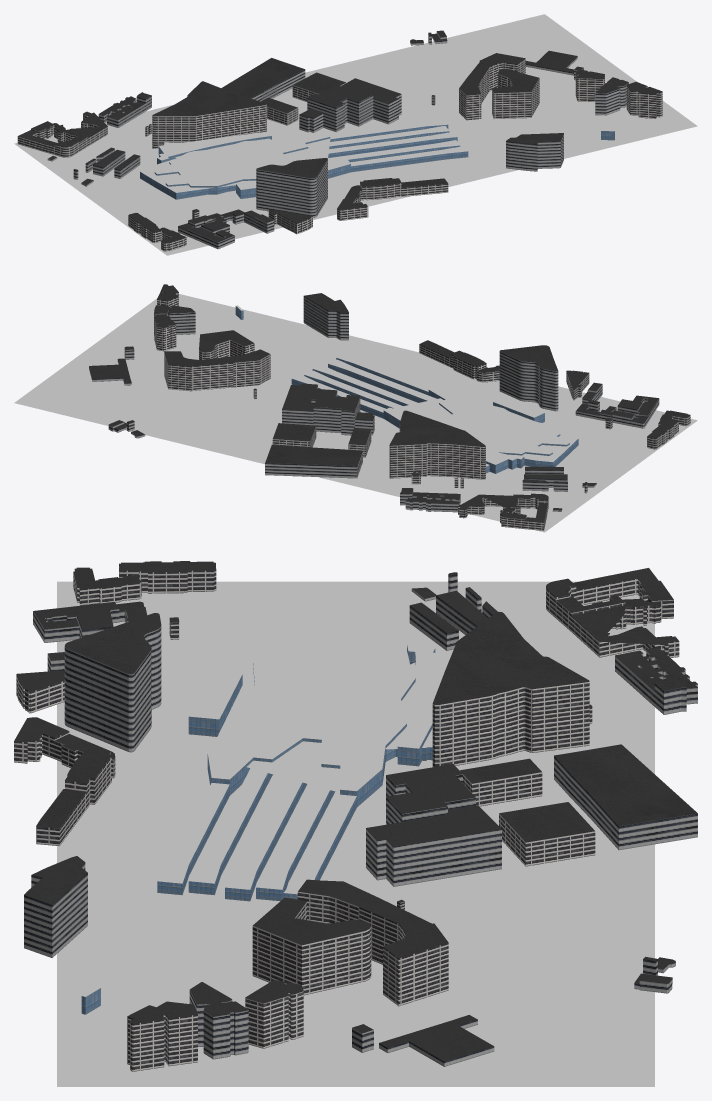
Rendered from viennaTrainStation.fbx.
3 views of the same model, one above another, from view 1: azimuth 30°, elevation 25°; view 2: azimuth 150°, elevation 25°; view 3: azimuth 270°, elevation 25° (orthographic). The views are drawn at different scales.
Parts seen in each view (by area): view 1: EXPORT_GOOGLE_SAT_WM, Areas:building, Roof; view 2: EXPORT_GOOGLE_SAT_WM, Areas:building, Roof; view 3: EXPORT_GOOGLE_SAT_WM, Roof, Areas:building.
Boxes of the visible parts, box(x1,y1,x2,y2) form: EXPORT_GOOGLE_SAT_WM: box(14, 14, 697, 255); Areas:building: box(17, 31, 662, 251); Roof: box(18, 30, 662, 243); EXPORT_GOOGLE_SAT_WM: box(14, 294, 697, 532); Areas:building: box(89, 291, 690, 530); Roof: box(89, 284, 690, 522); EXPORT_GOOGLE_SAT_WM: box(57, 581, 654, 1086); Roof: box(14, 561, 697, 1061); Areas:building: box(14, 565, 697, 1071).
Bounding box in the file's own units: 122299 × 8800 × 69962.
